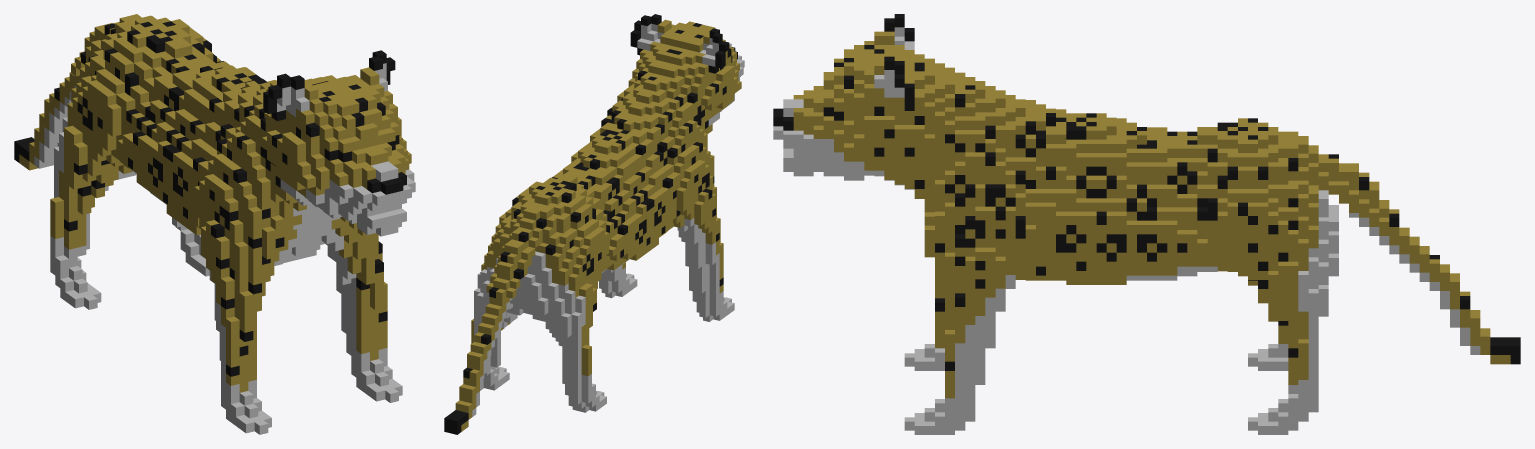
Rendered from Onca-0.obj.
3 views of the same model, side by side, from view 1: azimuth 30°, elevation 25°; view 2: azimuth 150°, elevation 25°; view 3: azimuth 270°, elevation 25° (orthographic). The views are drawn at different scales.
Bounding box in the file's own units: 1.8 × 3.9 × 7.4.
1 material, 1 textured.
